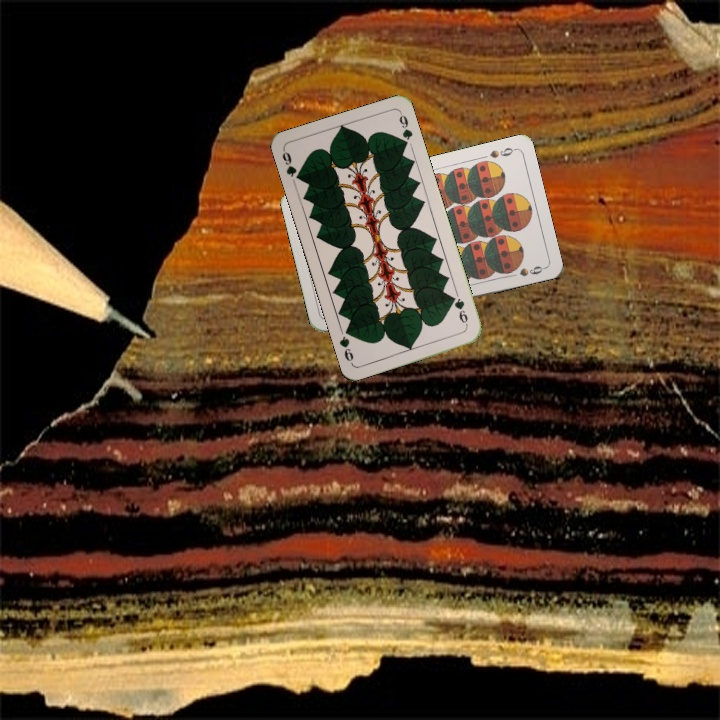G9: (278, 146, 305, 183), (448, 292, 471, 329)
S9: (486, 143, 518, 161)
